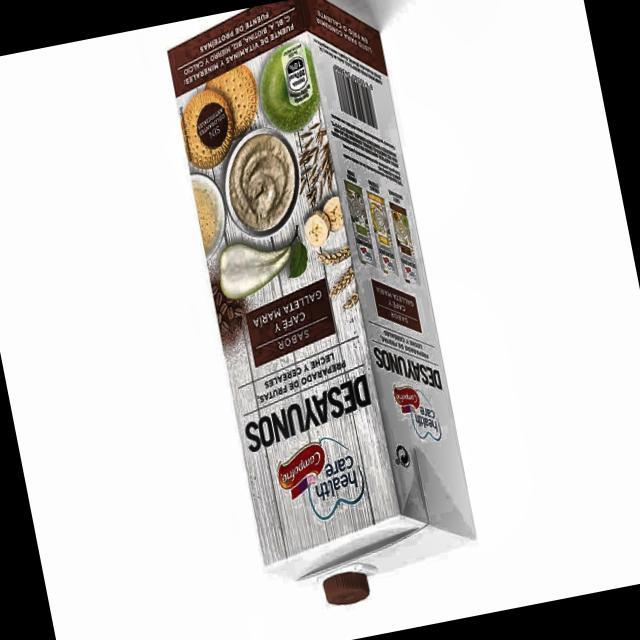cardboard: (158, 0, 485, 606)
